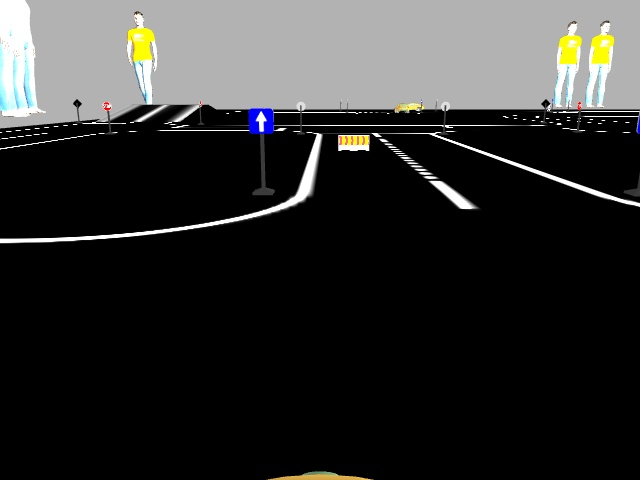ClosedRoadStand: (338, 135, 369, 151)
OneWay: (250, 108, 273, 132)
